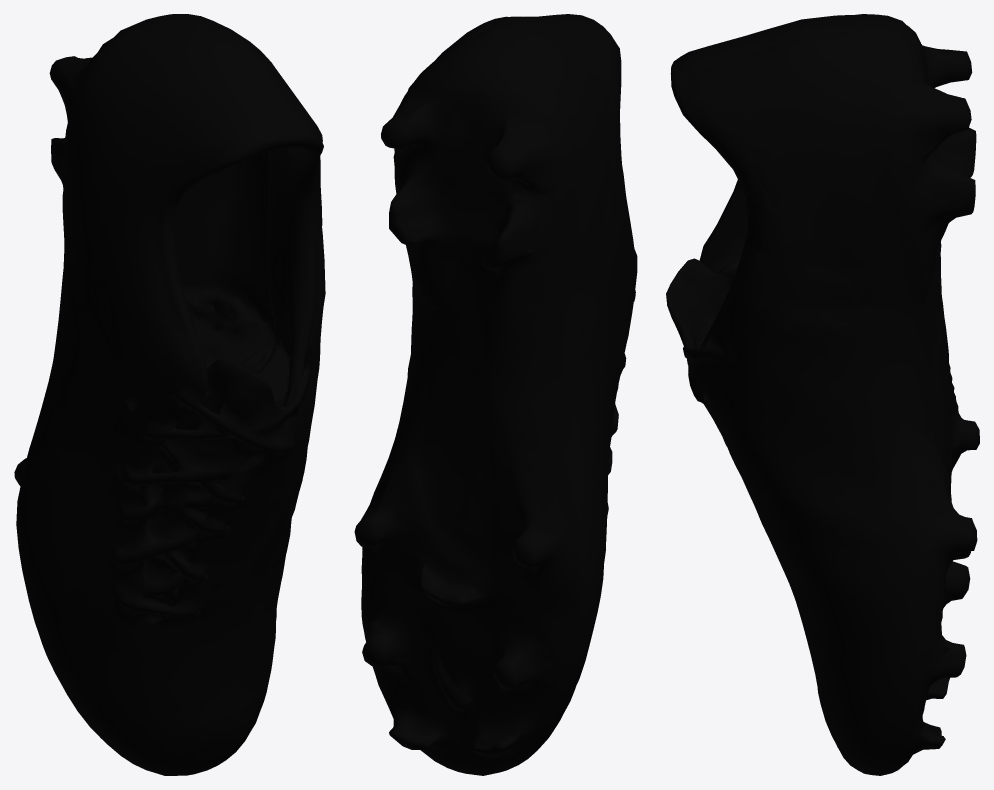
The model's file is boot2.glb.
3 renders of one model, left to right at view 1: azimuth 30°, elevation 25°; view 2: azimuth 150°, elevation 25°; view 3: azimuth 270°, elevation 25°, orthographic. The views are drawn at different scales.
Parts seen in each view (by area): view 1: Boots yellow_3d max_555; view 2: Boots yellow_3d max_555; view 3: Boots yellow_3d max_555.
Part boxes in pixels (x1,y1,x2,y2): Boots yellow_3d max_555: [14, 14, 325, 775]; Boots yellow_3d max_555: [354, 14, 637, 775]; Boots yellow_3d max_555: [666, 14, 979, 775].
Bounding box in the file's own units: 0.5956 × 1.8 × 0.6926.
1 material, 1 textured.
